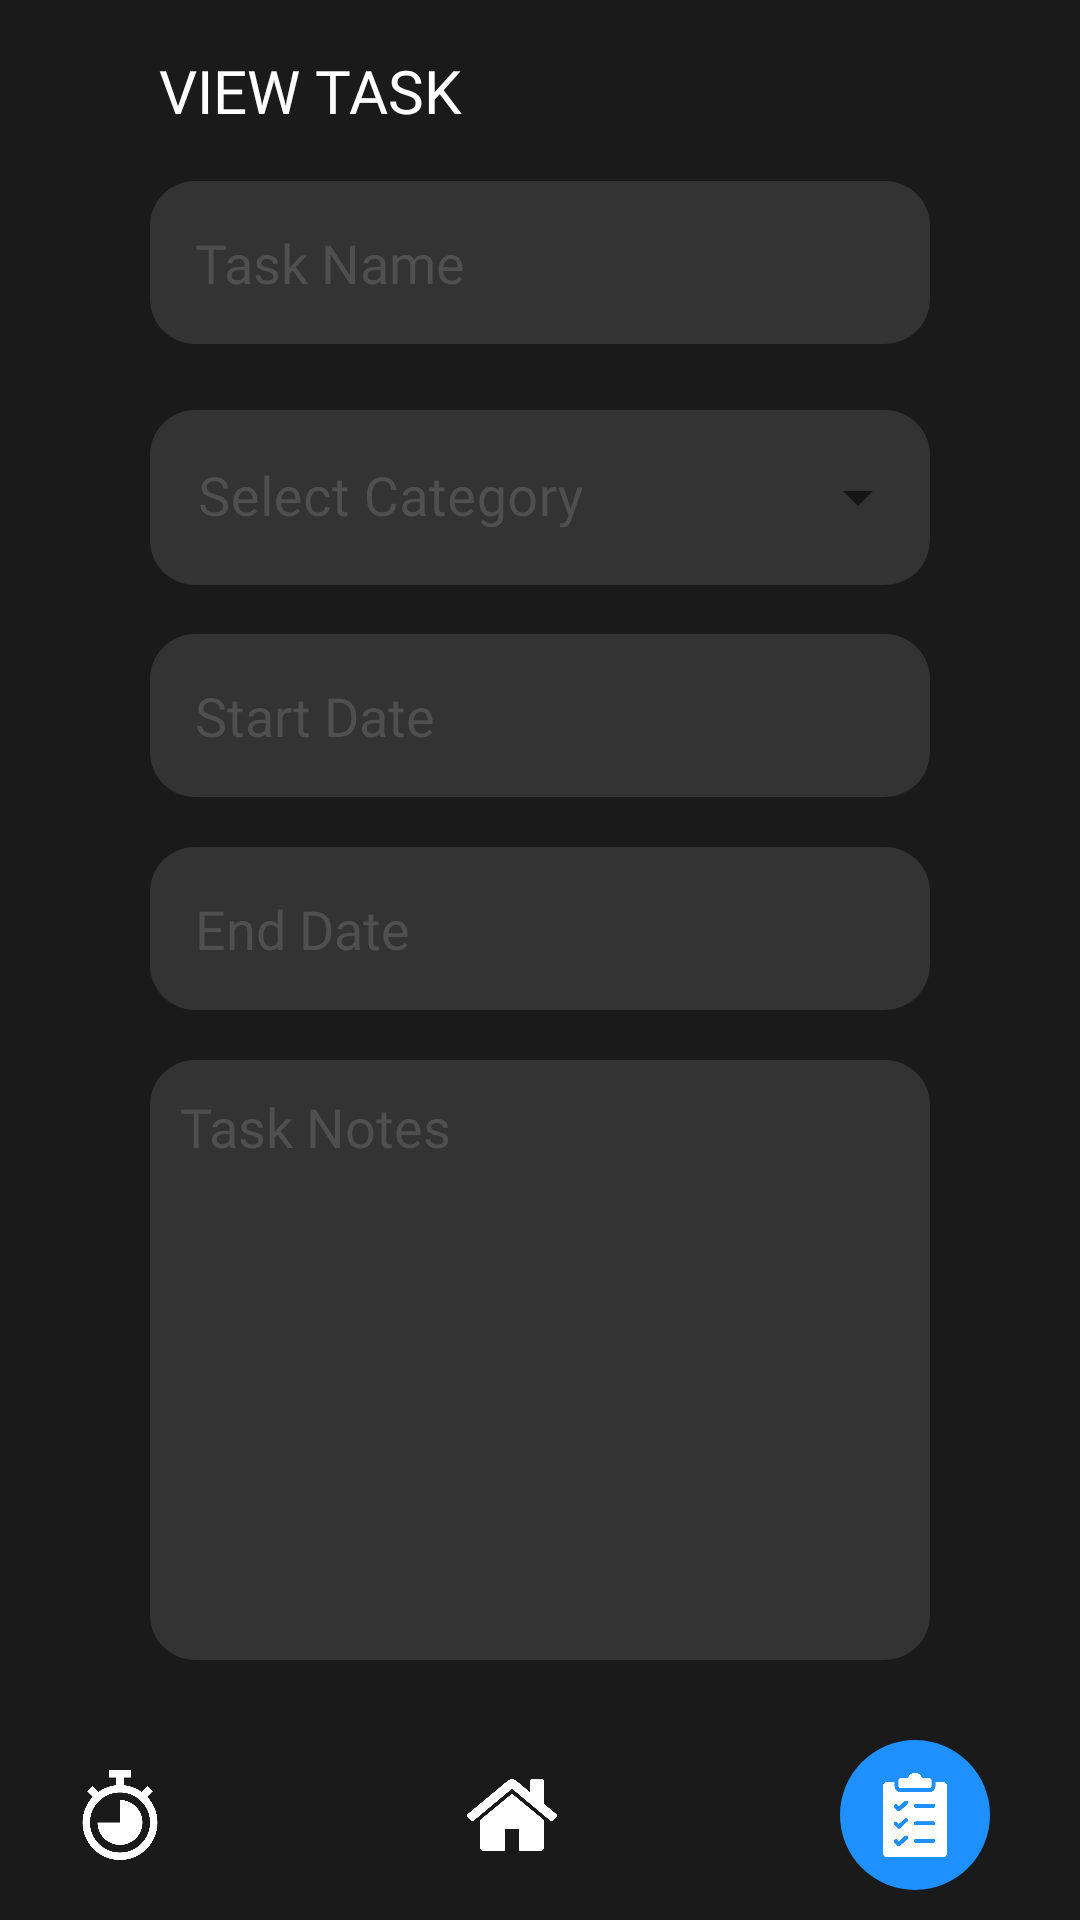

Icon bounding boxes for this 1080×1920 phone screenshot, format [left=x1, top=y1, right=x2, bottom=y2]:
checklist: [left=840, top=1740, right=990, bottom=1890]
home: [left=467, top=1779, right=557, bottom=1851]
timer: [left=82, top=1770, right=158, bottom=1860]
